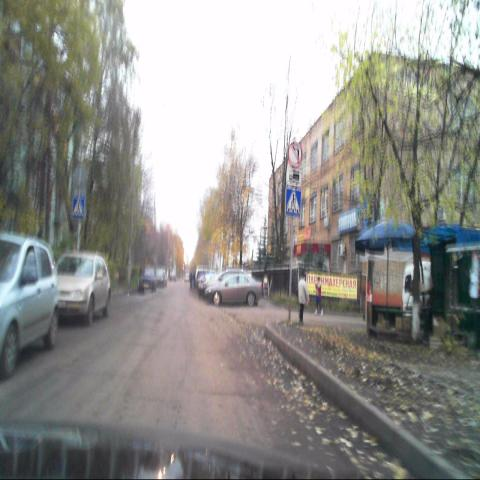3_18_2: (288, 140, 302, 169)
8_4_1: (285, 171, 302, 186)
